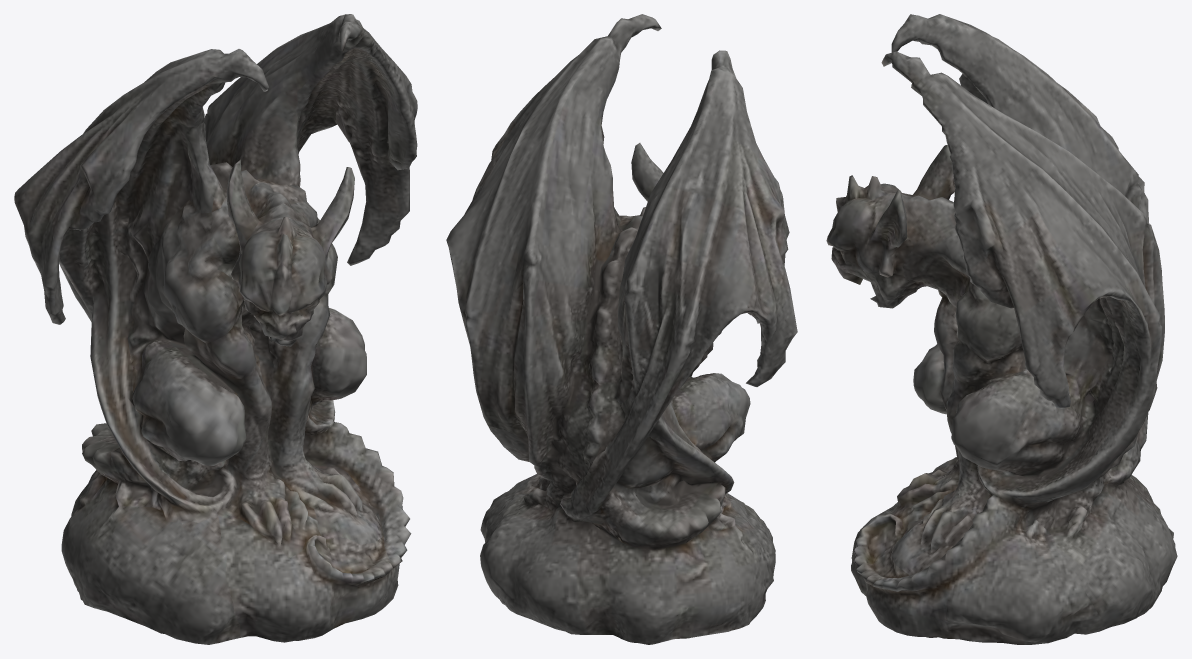
The model's file is SM_Gargoyle_Statue.glb.
The picture shows the model from 3 angles, left to right: view 1: azimuth 30°, elevation 25°; view 2: azimuth 150°, elevation 25°; view 3: azimuth 270°, elevation 25°; orthographic projection. The views are drawn at different scales.
Parts seen in each view (by area): view 1: SM_Gargoyle_Statue; view 2: SM_Gargoyle_Statue; view 3: SM_Gargoyle_Statue.
Part boxes in pixels (x1,y1,x2,y2): SM_Gargoyle_Statue: [14, 14, 417, 644]; SM_Gargoyle_Statue: [446, 14, 797, 644]; SM_Gargoyle_Statue: [826, 14, 1177, 644].
Size of the model in its own units: 0.4686 by 0.7129 by 0.4016.
Materials: 1 (1 with a texture image).
